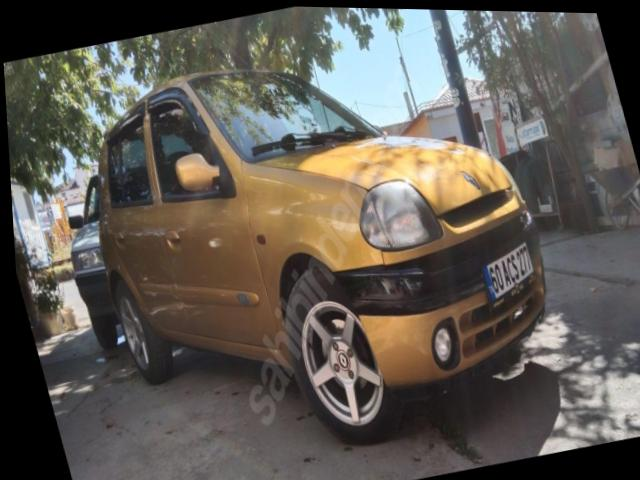plaka: (483, 242, 533, 300)
